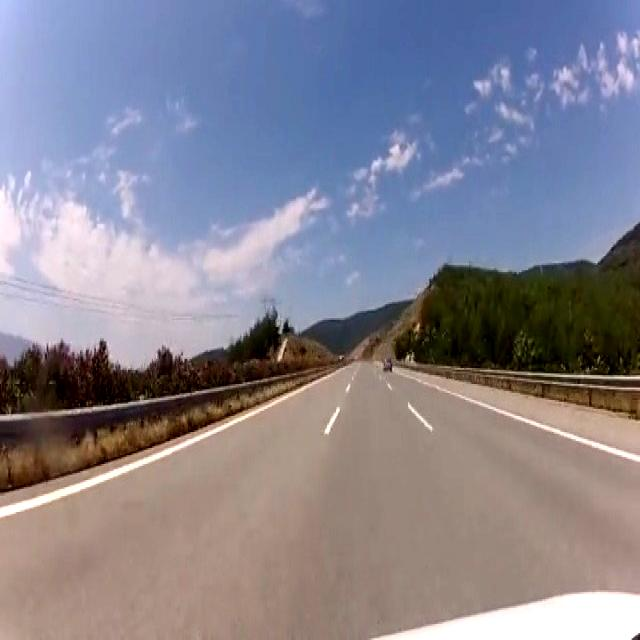lane: (0, 374, 334, 519), (400, 374, 640, 461), (322, 407, 339, 434)
road: (2, 363, 638, 638)
